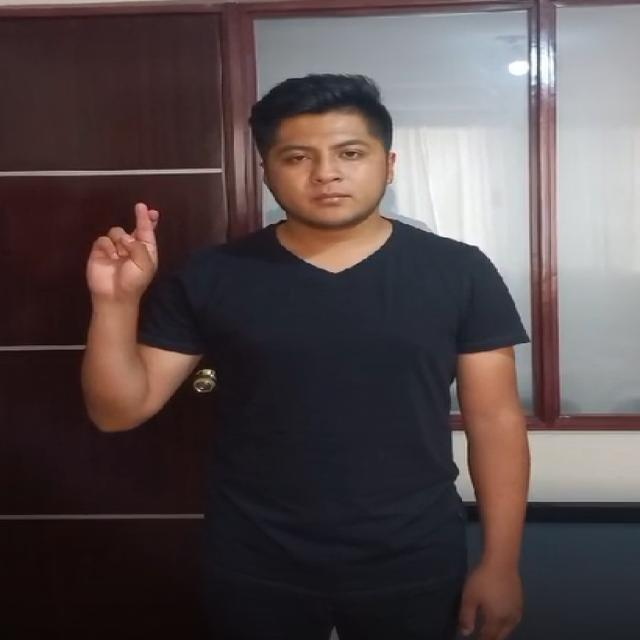R: (27, 182, 205, 325)
